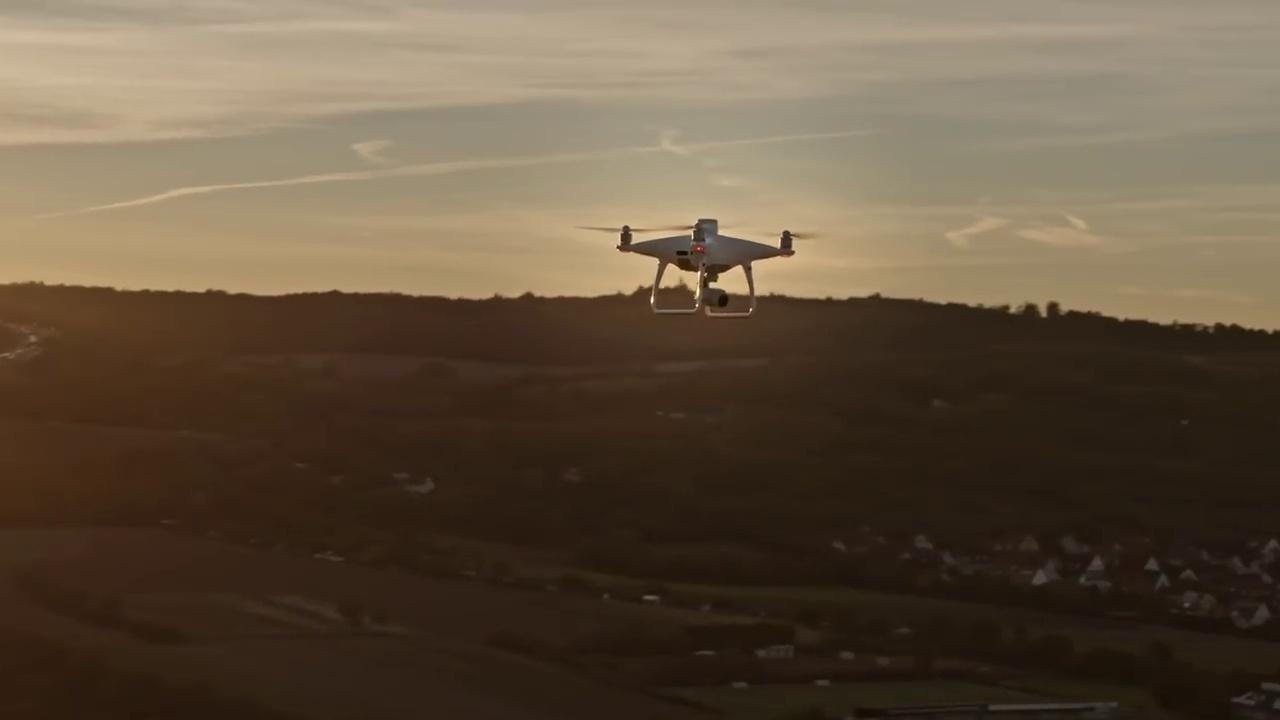drone: (570, 214, 836, 319)
